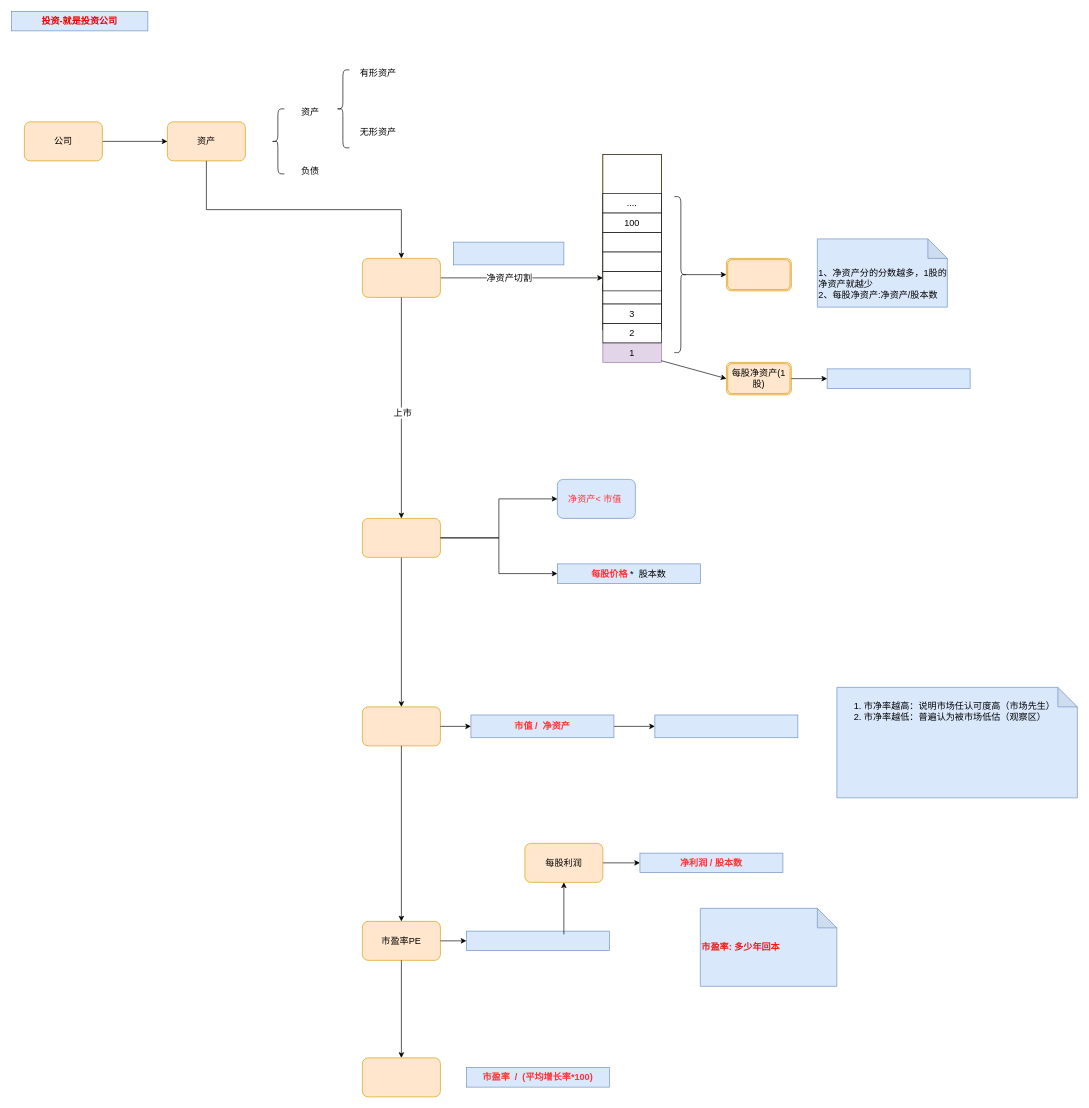
The diagram is 1089 pixels wide and 1108 high, and some of its shapes have lost their labels. Here are the shapes that lost their labels. From the top down, the centre of each, then its label:
the point at 508,253: 每股净资产 * 股本数
the point at 401,277: 净资产 (资产-负债)
the point at 758,274: 股本数
the point at 898,378: 净资产 / 股本数
the point at 401,537: 市值
the point at 401,726: 市净率PB (price/book value ratio)
the point at 726,726: 每股价格 / 每股净资产
the point at 537,940: 每股价格 / 每股利润
the point at 401,1077: 市盈增长比PEG
